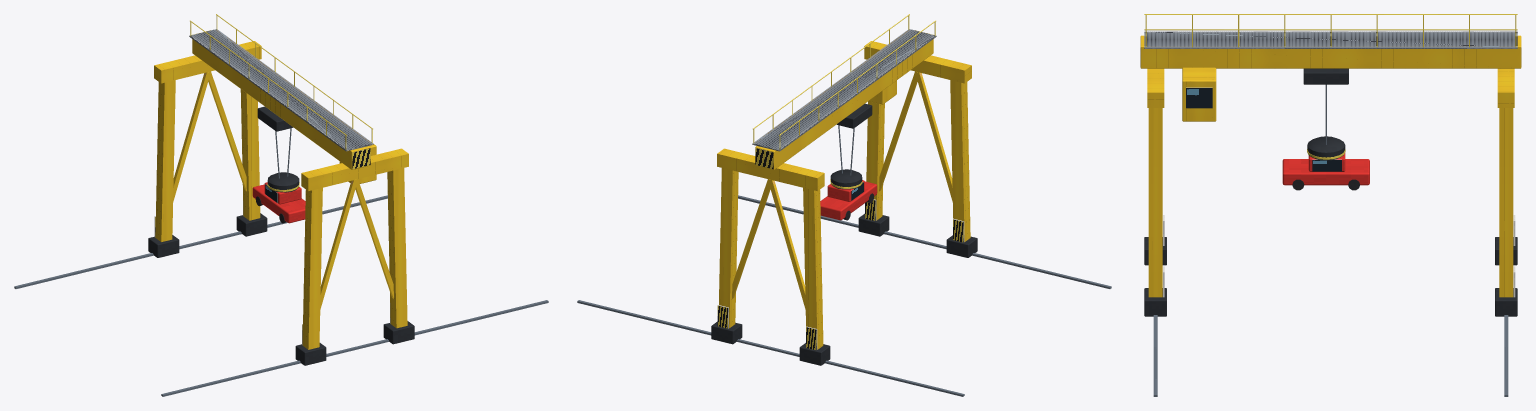
The model's file is p_sm_gantry.glb.
The picture shows the model from 3 angles, left to right: view 1: azimuth 30°, elevation 25°; view 2: azimuth 150°, elevation 25°; view 3: azimuth 270°, elevation 25°; orthographic projection. The views are drawn at different scales.
Parts seen in each view (by area): view 1: p_sm_gantry_lod0; view 2: p_sm_gantry_lod0; view 3: p_sm_gantry_lod0.
Boxes of the visible parts, x1,y1,x2,y2 form: p_sm_gantry_lod0: (14,14,548,396); p_sm_gantry_lod0: (577,14,1111,396); p_sm_gantry_lod0: (1140,14,1521,396).
Size of what is drawn, in the model's own units: 28 by 15.33 by 20.13.
Materials: 1 (1 with a texture image).
